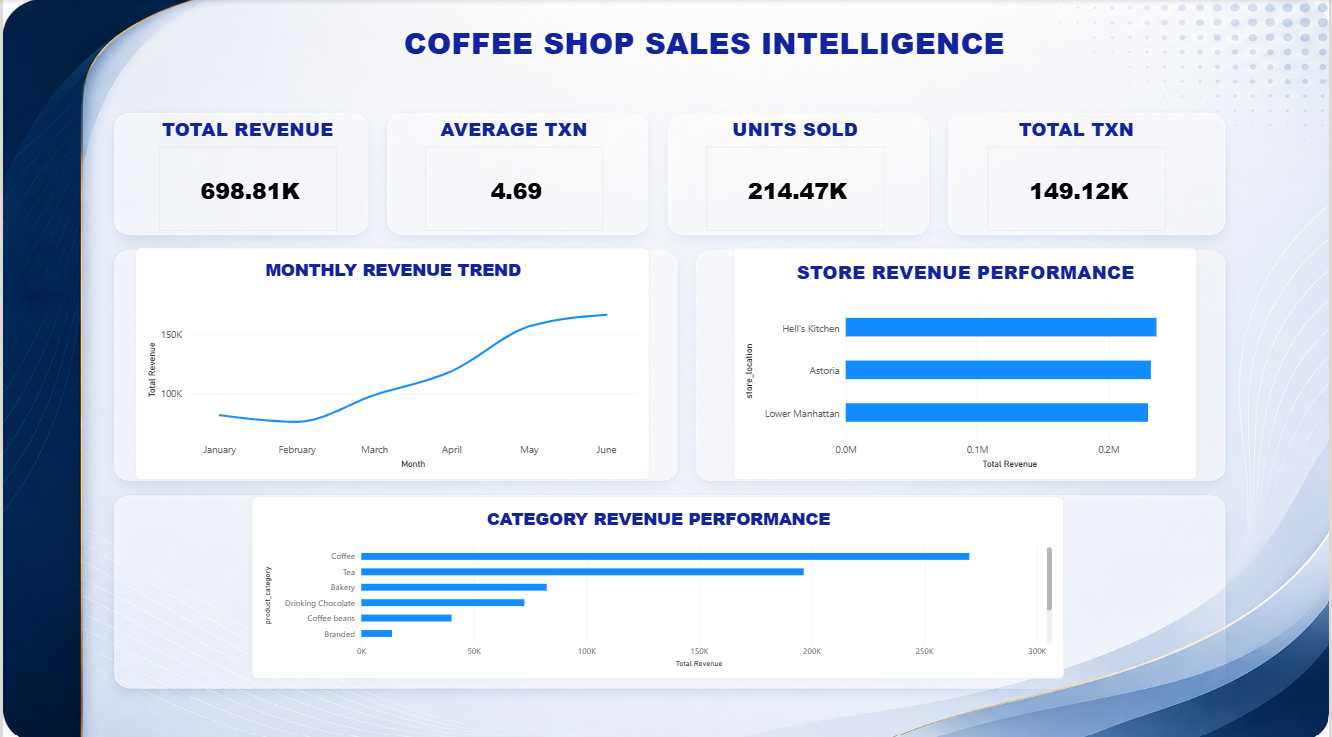

This screenshot's page, from the dashboard's own definition file:
{"tool":"powerbi","page":{"name":"Page 1","canvas":[1920,1080],"ordinal":0},"visuals":[{"type":"cardVisual","title":"TOTAL REVENUE","fields":{"Data":["public dim_date.Total Revenue"]},"box":[216,168,288,168],"z":0},{"type":"cardVisual","title":"AVERAGE TXN","fields":{"Data":["public dim_date.Average Transaction Value"]},"box":[600,168,288,168],"z":1000},{"type":"cardVisual","title":"UNITS SOLD","fields":{"Data":["public dim_date.Total Units Sold"]},"box":[1008,168,288,168],"z":2000},{"type":"cardVisual","title":"TOTAL TXN","fields":{"Data":["public dim_product.Total Transactions"]},"box":[1416,168,288,168],"z":3000},{"type":"lineChart","title":"MONTHLY REVENUE TREND","fields":{"Category":["public dim_date.month_name"],"Y":["public dim_date.Total Revenue"]},"box":[192,360,744,336],"z":3001},{"type":"clusteredBarChart","title":"STORE REVENUE PERFORMANCE","fields":{"Category":["public dim_store.store_location"],"Y":["public dim_date.Total Revenue"]},"box":[1056,360,672,336],"z":3002},{"type":"clusteredBarChart","title":"CATEGORY REVENUE PERFORMANCE","fields":{"Category":["public dim_product.product_category"],"Y":["public dim_date.Total Revenue"]},"box":[360,720,1176,264],"z":3003}]}

Visuals, with their boxes in screenshot pixels (x1, y1, x2, y2), scaled from the page's 1920x1080 canvas onto the 1332x737 screenshot:
"TOTAL REVENUE" cardVisual: bbox(150, 115, 350, 229)
"AVERAGE TXN" cardVisual: bbox(416, 115, 616, 229)
"UNITS SOLD" cardVisual: bbox(699, 115, 899, 229)
"TOTAL TXN" cardVisual: bbox(982, 115, 1182, 229)
"MONTHLY REVENUE TREND" lineChart: bbox(133, 246, 649, 475)
"STORE REVENUE PERFORMANCE" clusteredBarChart: bbox(733, 246, 1199, 475)
"CATEGORY REVENUE PERFORMANCE" clusteredBarChart: bbox(250, 491, 1066, 671)
